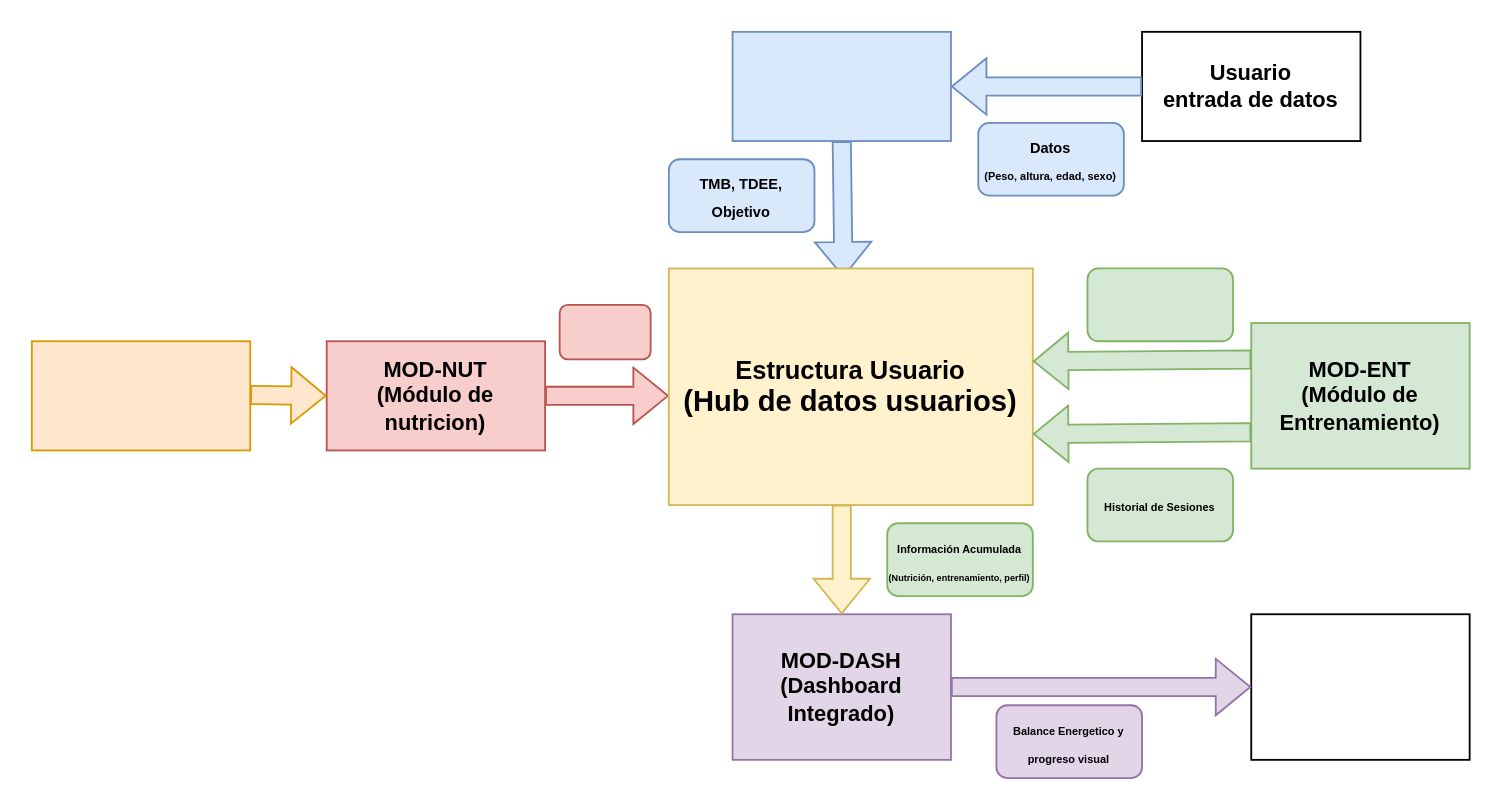
Image size: 1502x810. Some labels were removed from this diagram. The centre of each missing label's shape, as x and y in pixels:
Base de datos JSON (Alimentos): the point at 140,394
Interfaz grafica QT/C++: the point at 1359,686
macros: the point at 604,331
MOD-USR (Módulo de Perfil de Usuario): the point at 841,85
Planificación Semanal (Pesas/Cardio): the point at 1159,304
